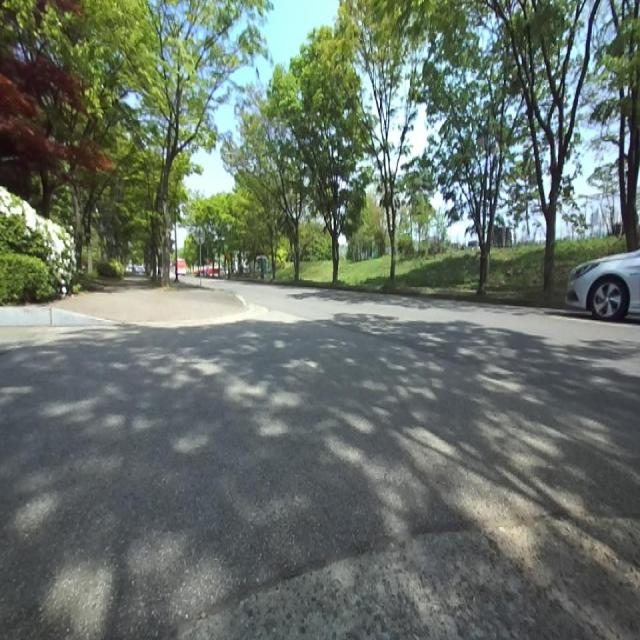sidewalk: (50, 277, 246, 321)
